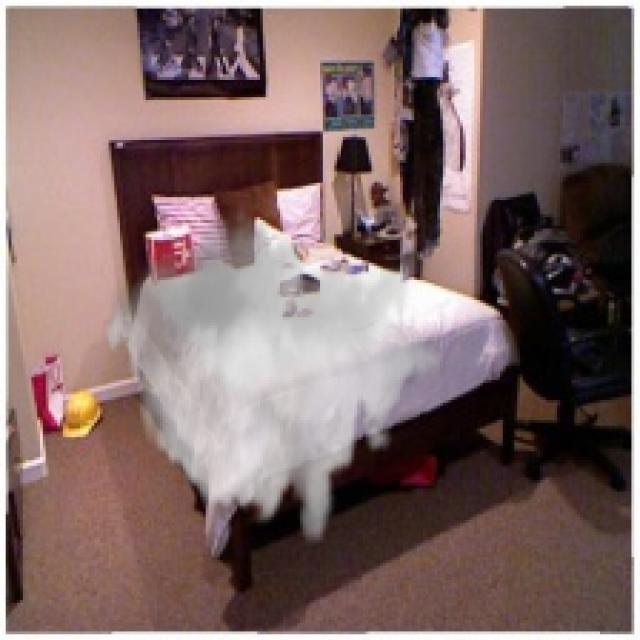Smoke: (100, 202, 443, 548)
